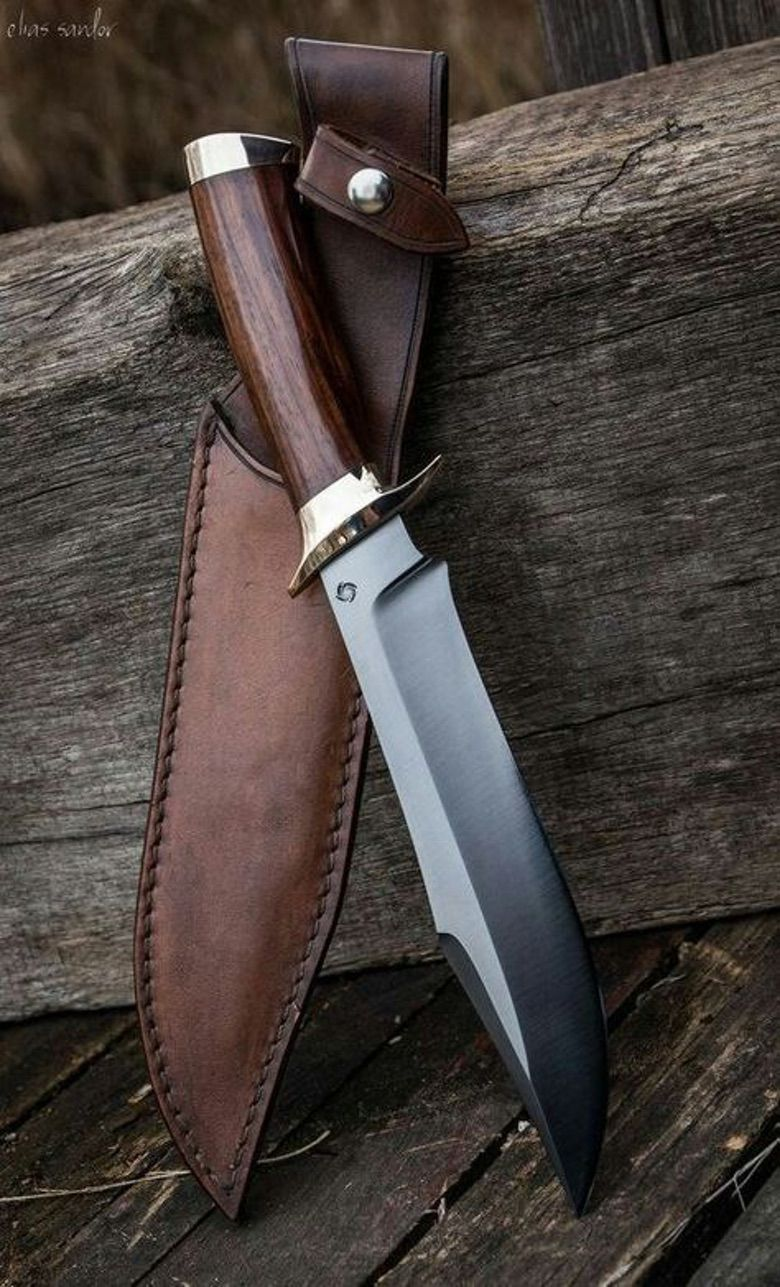knife: (173, 116, 624, 1231)
